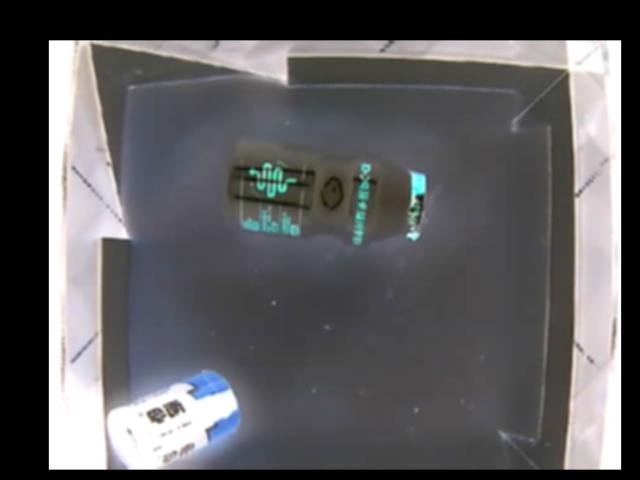Battery: (109, 366, 242, 469)
Bottle: (226, 136, 427, 248)
